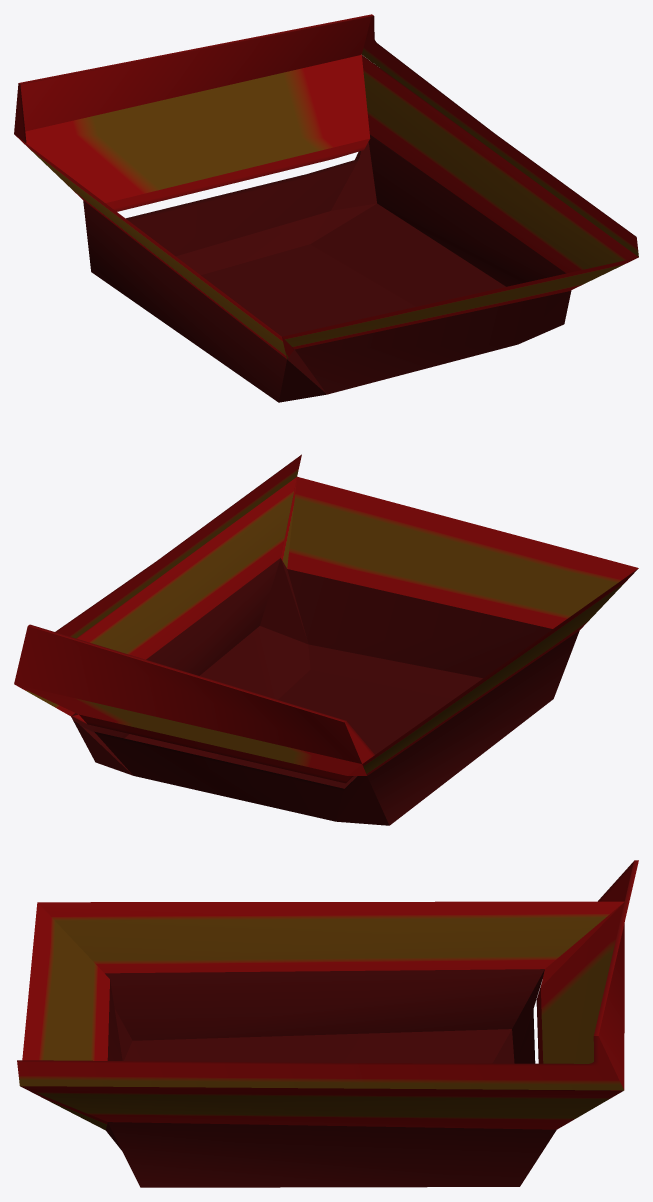
Rendered from body1_army2.obj.
The picture shows the model from 3 angles, top to bottom: view 1: azimuth 30°, elevation 25°; view 2: azimuth 150°, elevation 25°; view 3: azimuth 270°, elevation 25°; orthographic projection. The views are drawn at different scales.
Visible parts, largest first — view 1: Body1; view 2: Body1; view 3: Body1.
Part boxes in pixels (x1,y1,x2,y2): Body1: [14, 14, 638, 402]; Body1: [14, 454, 638, 825]; Body1: [17, 860, 638, 1187].
Bounding box in the file's own units: 2.91 × 1.33 × 4.15.
1 material, 1 textured.
